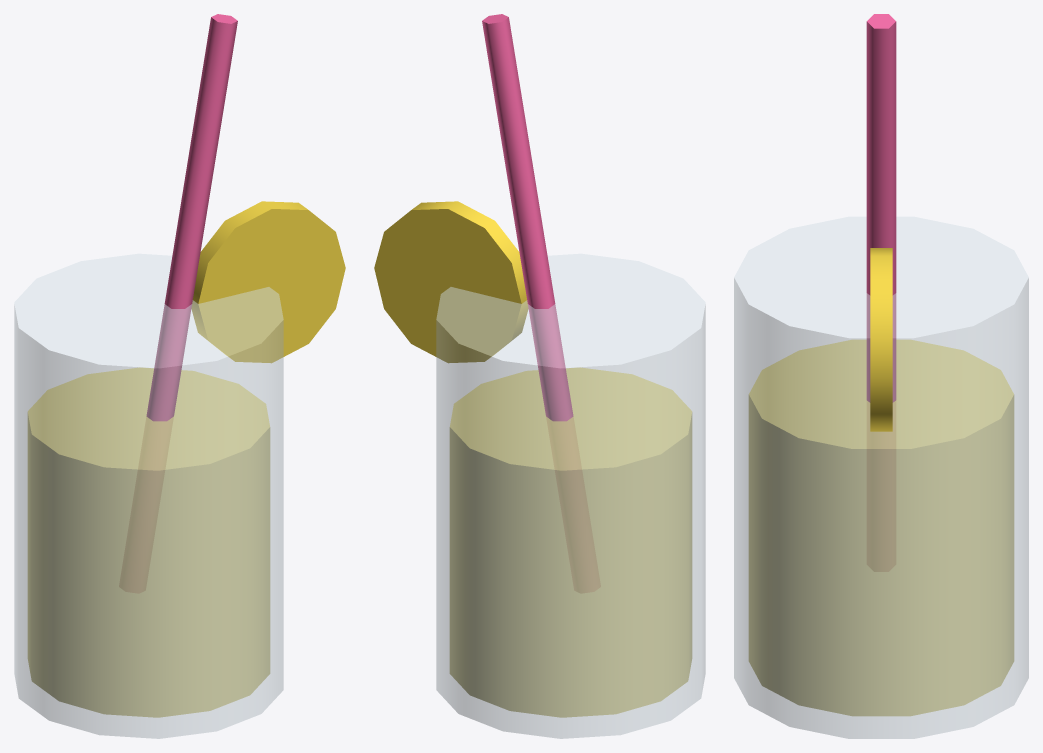
File: lemonade.glb
3 views of the same model, side by side, from view 1: azimuth 30°, elevation 25°; view 2: azimuth 150°, elevation 25°; view 3: azimuth 270°, elevation 25° (orthographic). The views are drawn at different scales.
Visible parts, largest first — view 1: lemonade; view 2: lemonade; view 3: lemonade.
Boxes of the visible parts, box(x1,y1,x2,y2) form: lemonade: box(14, 14, 345, 738); lemonade: box(374, 14, 705, 738); lemonade: box(734, 14, 1028, 738).
Size of the model in its own units: 0.104 by 0.2092 by 0.08.
